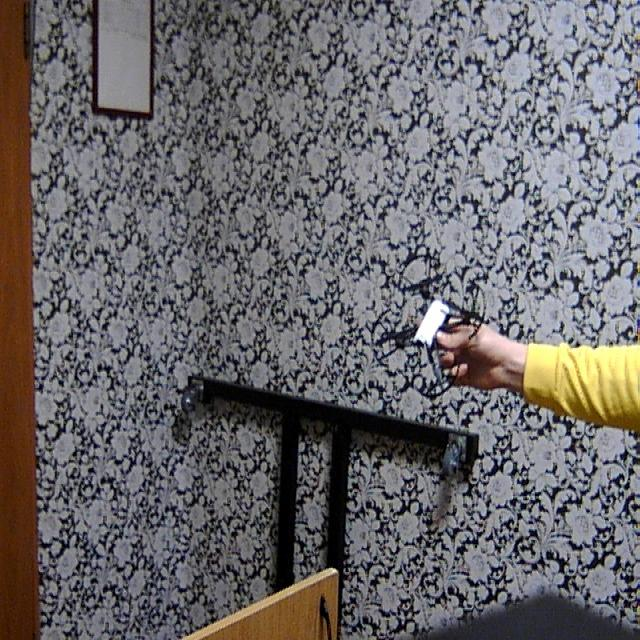drone: (370, 242, 492, 396)
